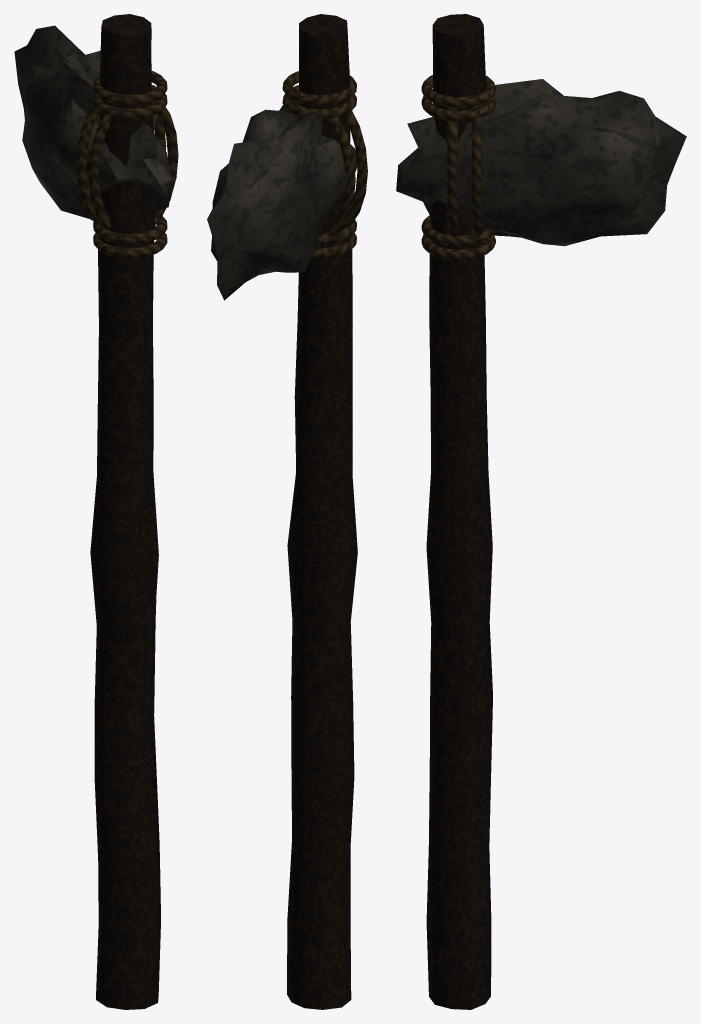
Rendered from stone_axe.glb.
The picture shows the model from 3 angles, left to right: view 1: azimuth 30°, elevation 25°; view 2: azimuth 150°, elevation 25°; view 3: azimuth 270°, elevation 25°; orthographic projection.
Parts seen in each view (by area): view 1: stone_axe; view 2: stone_axe; view 3: stone_axe.
Boxes of the visible parts, bbox=[...] form: stone_axe: bbox=[14, 14, 178, 1009]; stone_axe: bbox=[207, 14, 367, 1009]; stone_axe: bbox=[396, 14, 686, 1009].
Size of the model in its own units: 0.0674 by 0.7004 by 0.1901.
Materials: 3 (3 with a texture image).
